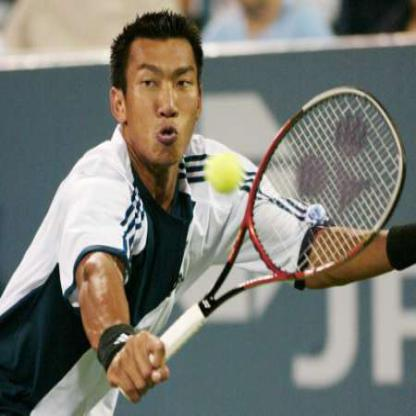face: (125, 20, 202, 170)
